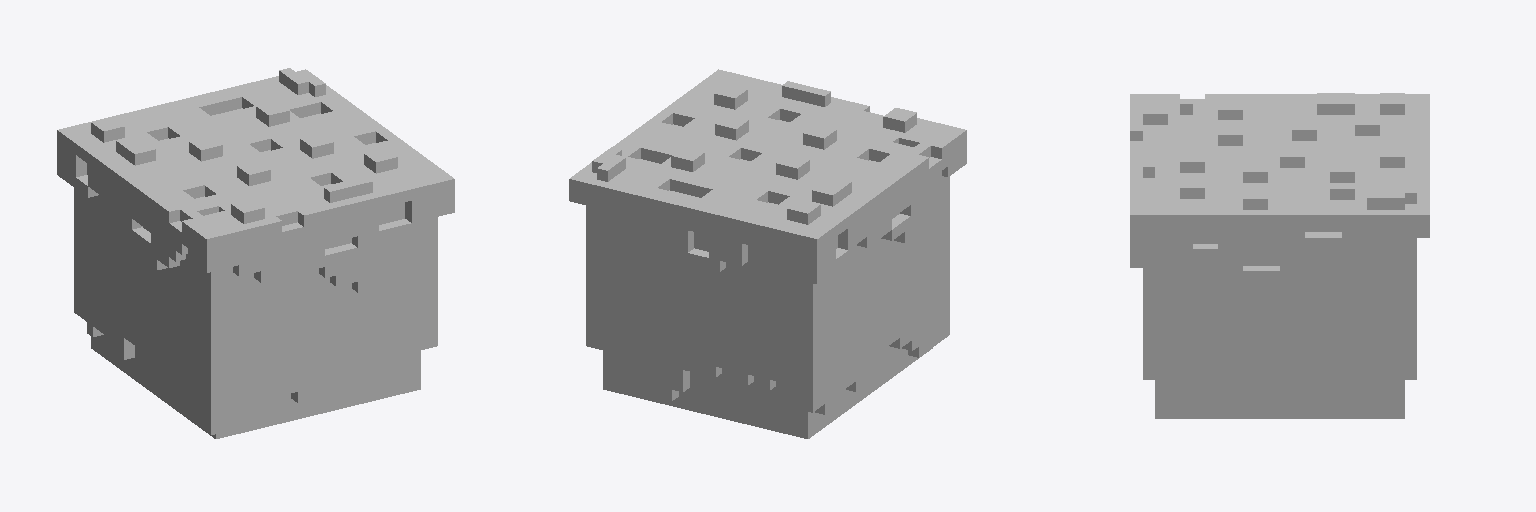
Rendered from boloto (2)-1.obj.
3 renders of one model, left to right at view 1: azimuth 30°, elevation 25°; view 2: azimuth 150°, elevation 25°; view 3: azimuth 270°, elevation 25°, orthographic.
Parts seen in each view (by area): view 1: object 1; view 2: object 1; view 3: object 1.
Boxes of the visible parts, x1=… form: object 1: x1=57, y1=68, x2=454, y2=438; object 1: x1=569, y1=69, x2=966, y2=438; object 1: x1=1130, y1=93, x2=1429, y2=418.
Size of the model in its own units: 2.3 by 2 by 2.4.